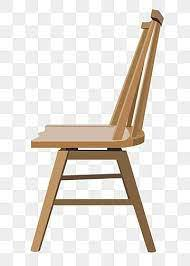chair: (13, 14, 173, 252)
